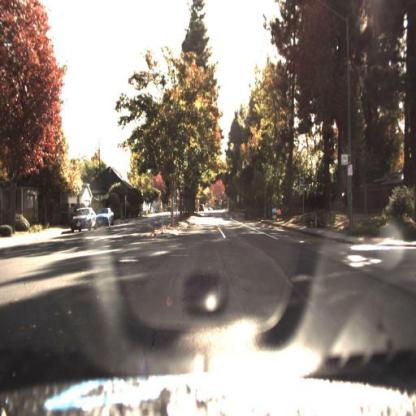car: (73, 201, 96, 232), (95, 207, 118, 231), (96, 208, 115, 230), (198, 200, 206, 216)
